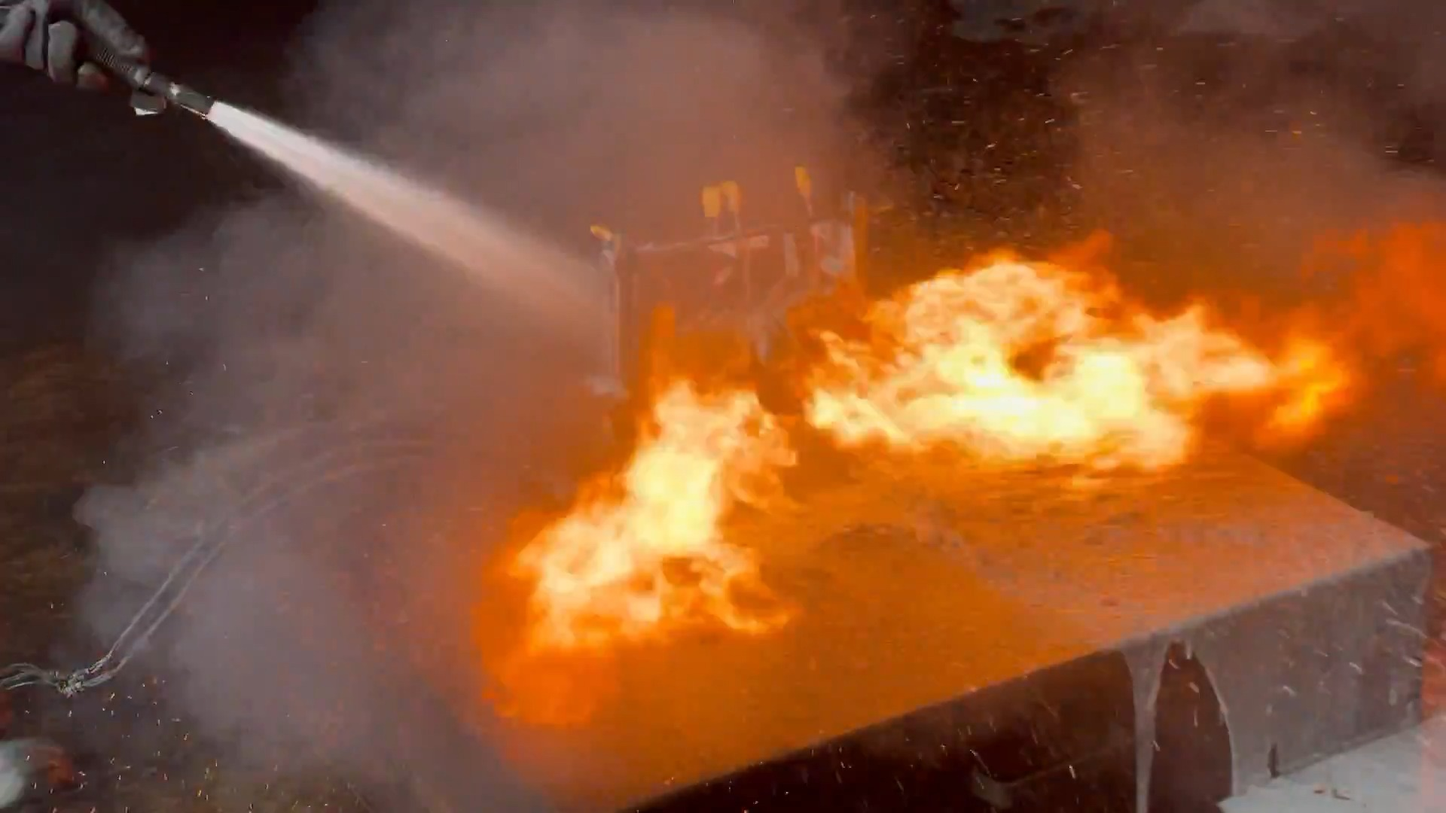fire: (475, 224, 1445, 721)
smoke: (285, 0, 1445, 262), (64, 201, 487, 812)
